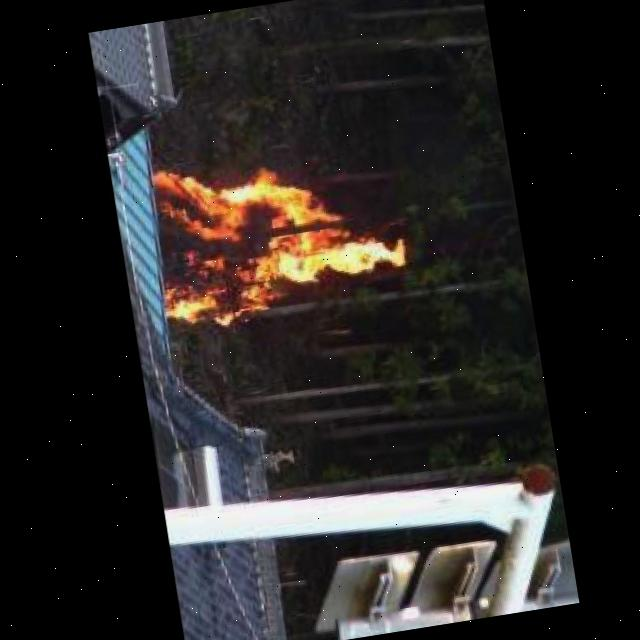fire: (144, 137, 414, 334)
